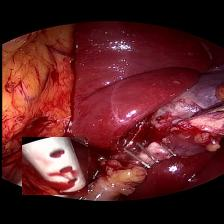Irrigator: (21, 137, 87, 195)
